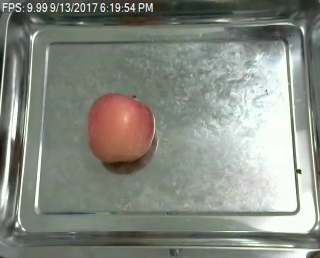Apple: (86, 89, 156, 171)
